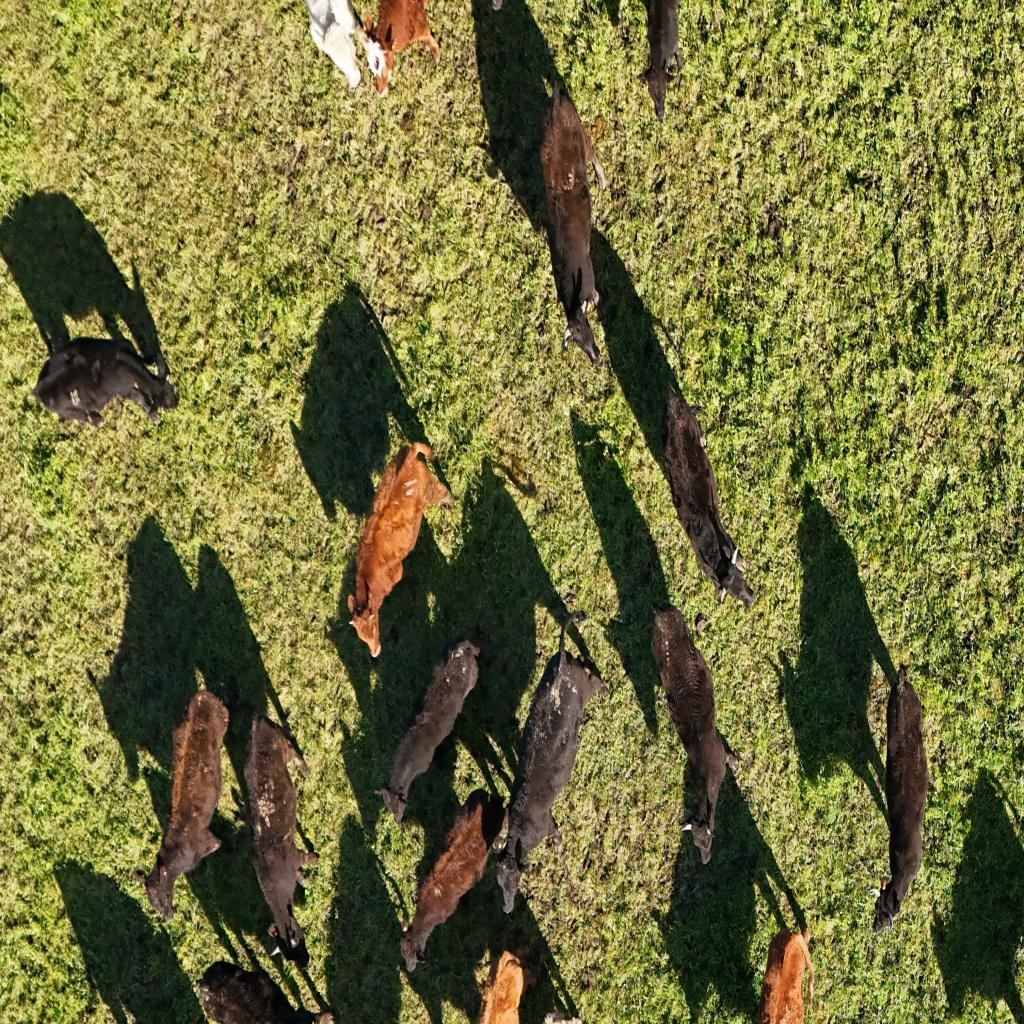cow: (493, 621, 606, 911), (129, 691, 231, 923), (345, 446, 453, 662), (537, 73, 613, 376), (397, 784, 507, 976), (865, 658, 936, 942), (376, 638, 485, 822), (242, 707, 318, 966), (659, 605, 736, 858), (666, 382, 746, 604), (28, 330, 182, 435), (195, 958, 327, 1024), (365, 1, 443, 98), (295, 1, 366, 97), (756, 926, 816, 1024), (639, 1, 681, 122)
